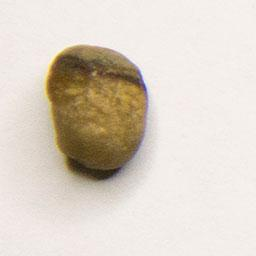defect: (42, 38, 154, 179)
